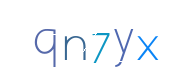7: (49, 0, 129, 80)
N: (49, 0, 129, 80)
Q: (38, 0, 118, 80)
X: (87, 0, 167, 80)
Y: (57, 0, 137, 80)
